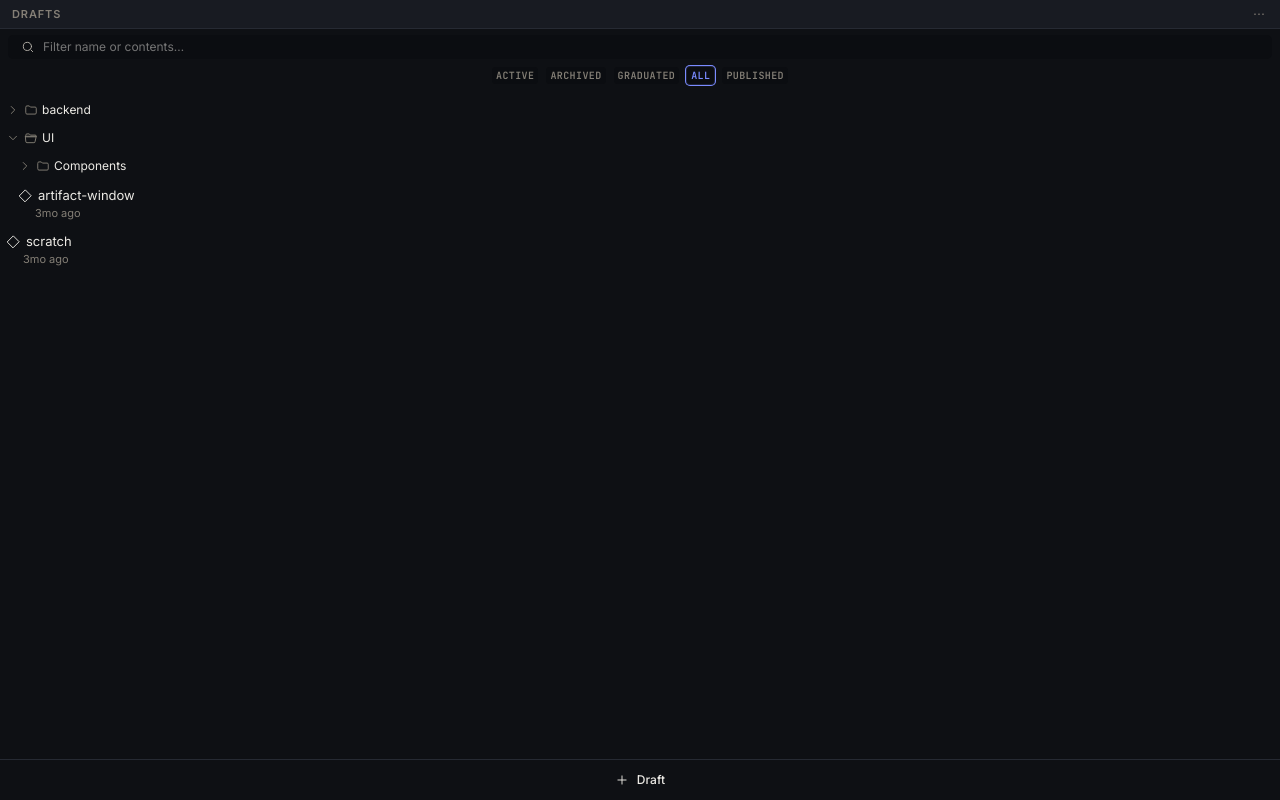
Drafts panel (DRP-drafts-panel.md) › DRP-FR-28, DRP-FR-30: Move to Folder… lists refused destinations as unavailable rather than omitting them
Expected: the text "scratch" is shown, [26, 232, 72, 252]
Right-click the list item with aria-label "Folder UI" at (30, 138), box [6, 130, 54, 145]
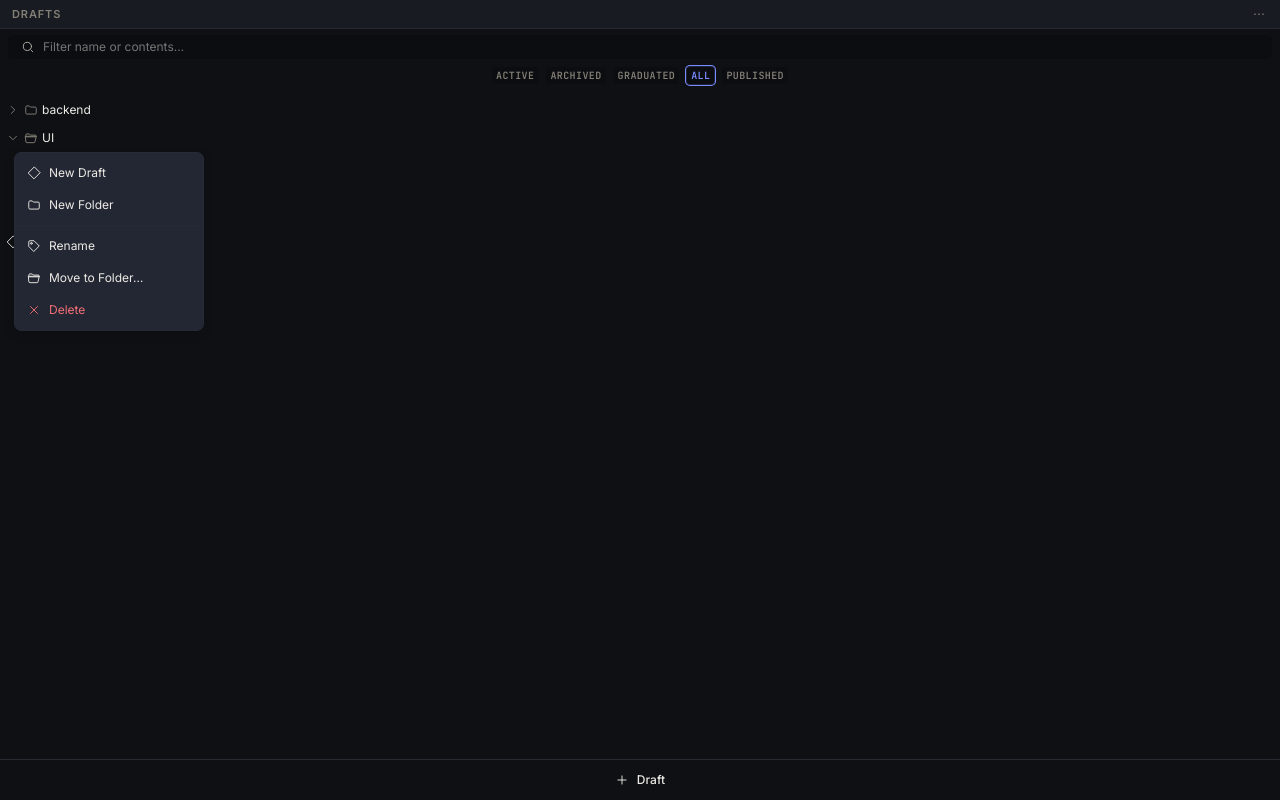
Click the menu item "Move to Folder…" at (85, 278), box [27, 270, 143, 285]
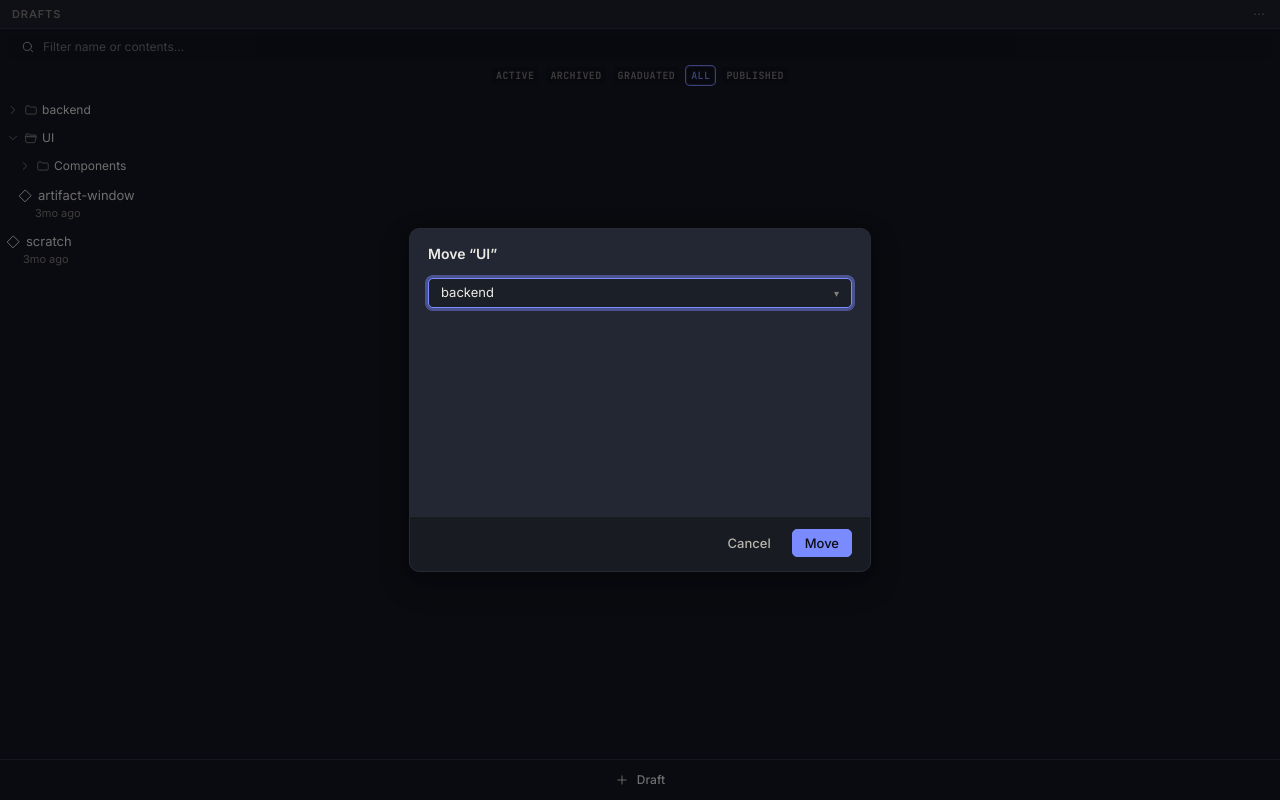
Click the dropdown named "Destination folder" at (467, 292), box [428, 278, 852, 308]
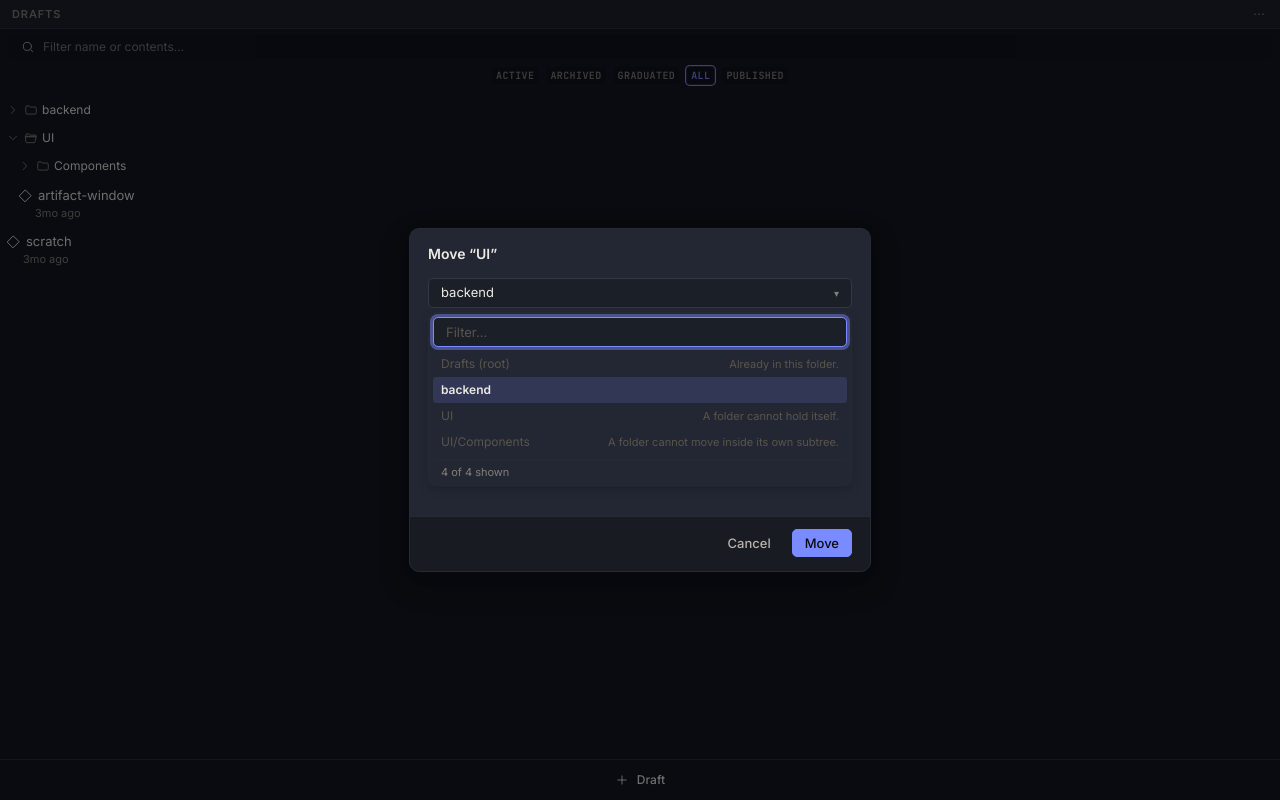
Expected: the list shows "A folder cannot hold itself.", [703, 409, 839, 423]
Expected: the list shows "A folder cannot move inside its own subtree.", [608, 435, 839, 449]
Expected: the list shows "Already in this folder.", [729, 357, 839, 371]
